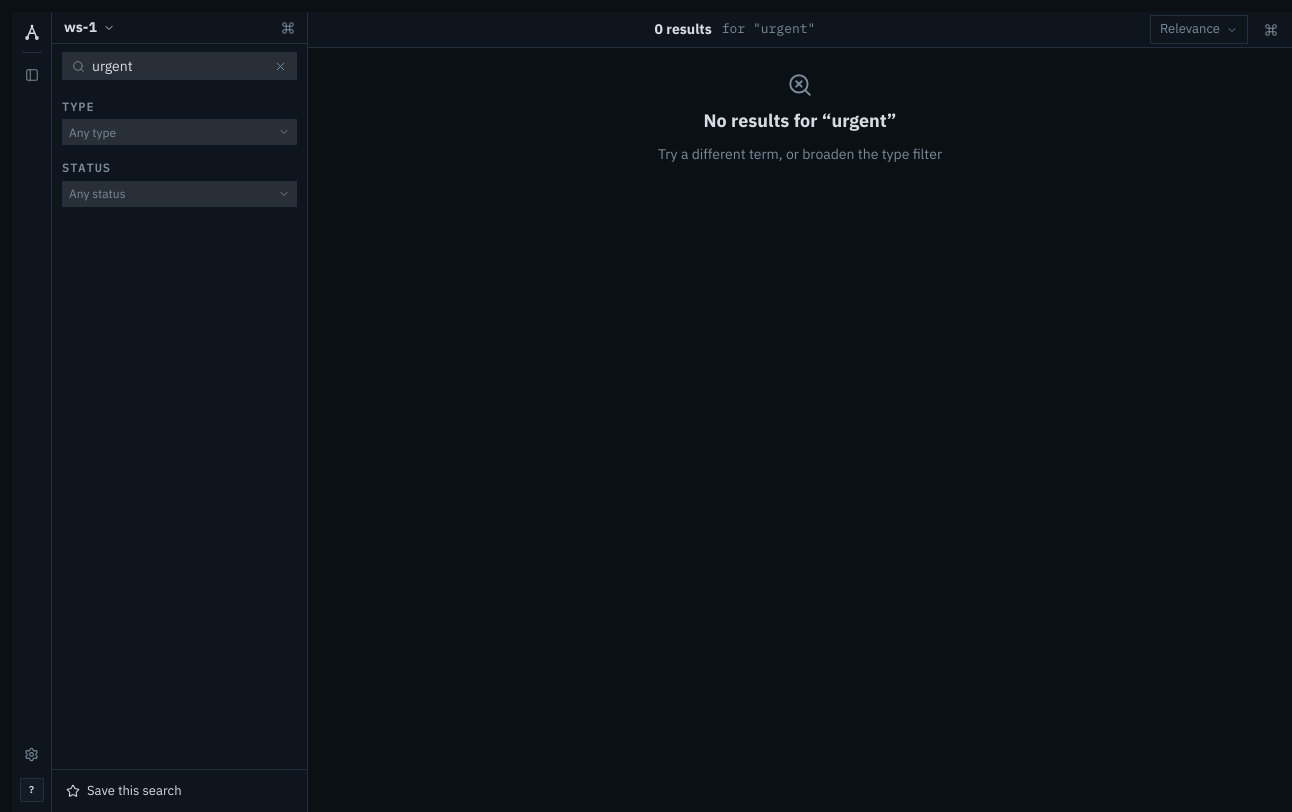
Search.vue Save popover (SE10–SE15) › blocks submit and shows a validation error on an empty name (SE12)
Click the button with aria-label "Save this search" at x=180, y=791, box 60,778 -> 299,804
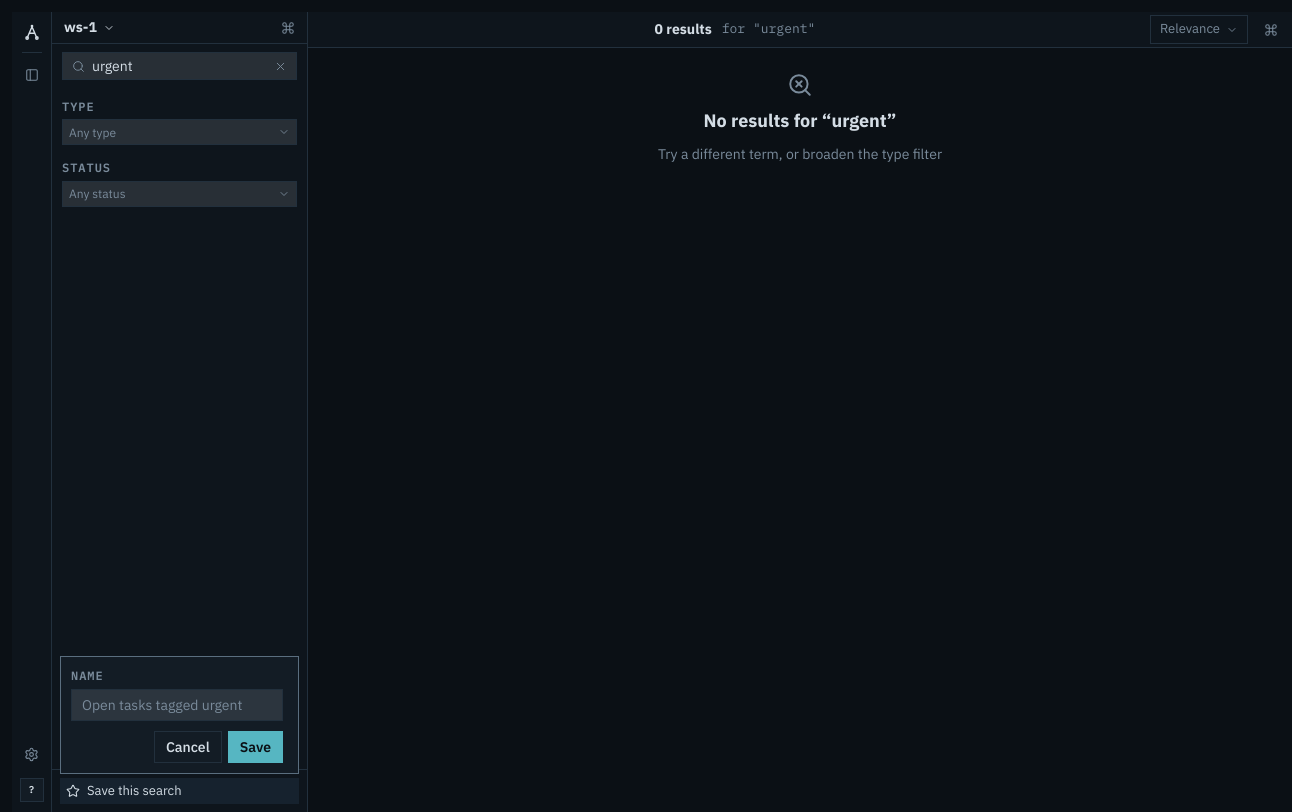
Check: the button "Save" is shown
Click the button "Save" at x=255, y=747, box 228,731 -> 283,763
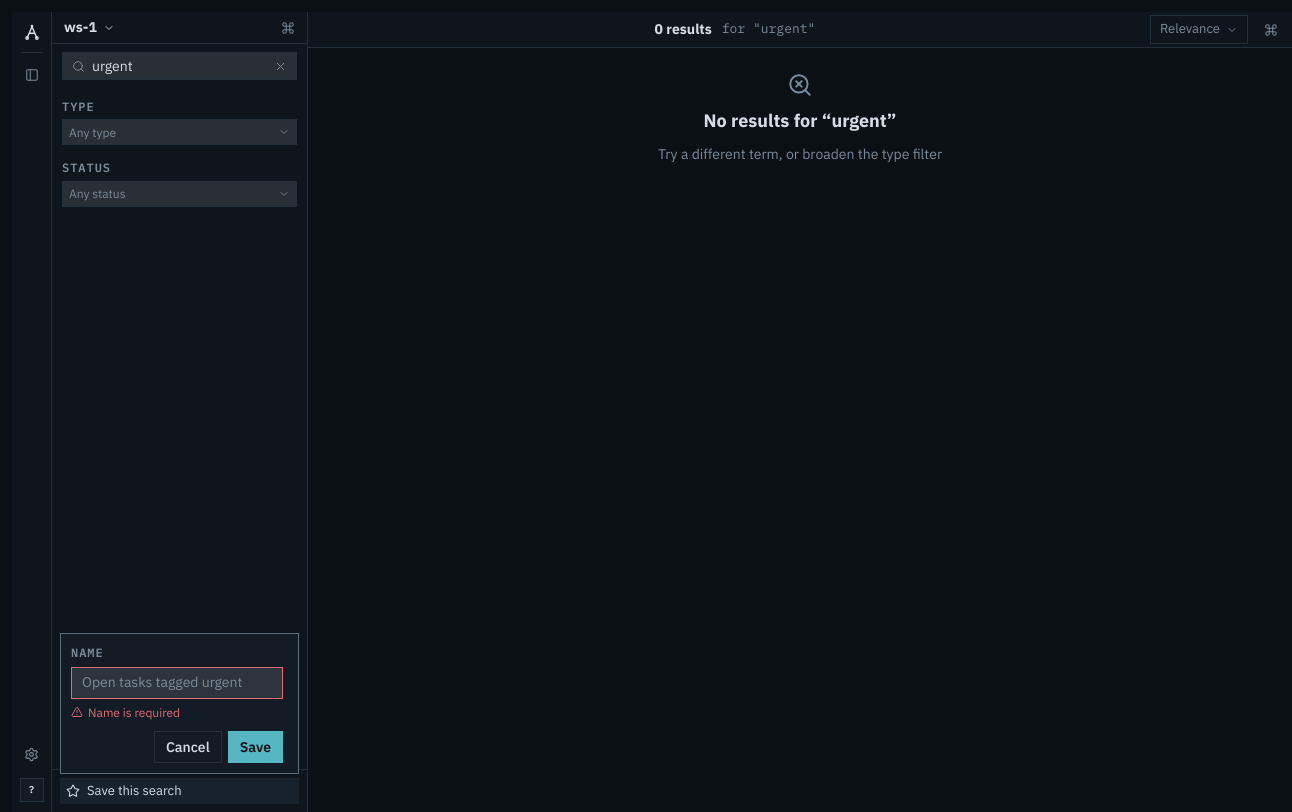
Check: the text "required" is shown, box 88,705 -> 180,720
